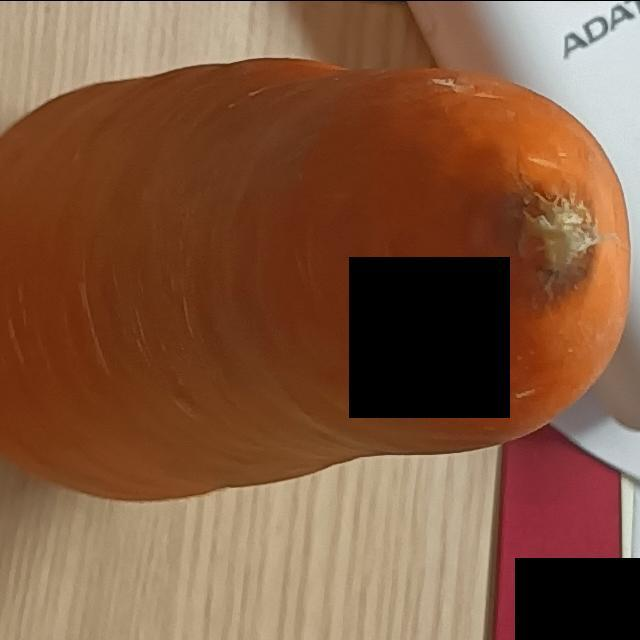carrot: (1, 47, 640, 510)
